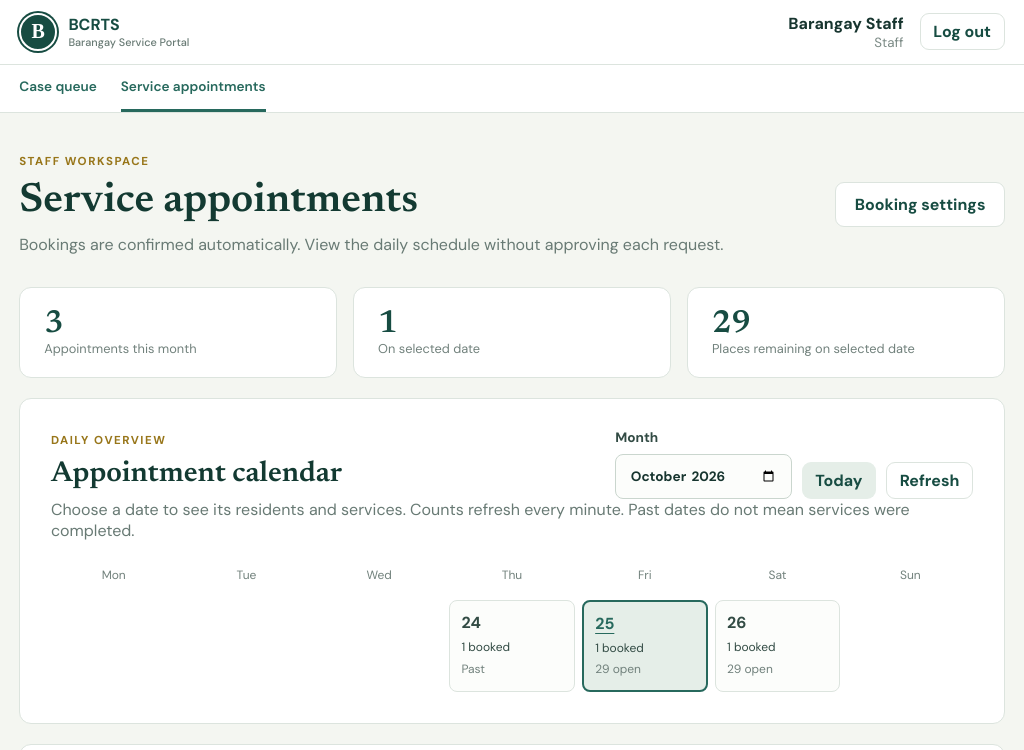
Test case: automatic appointments › saves an every-other-day schedule and capacity settings
The width and height of the screenshot is (1024, 750).
Click the button "Booking settings" at (920, 204), box [835,182,1005,227]
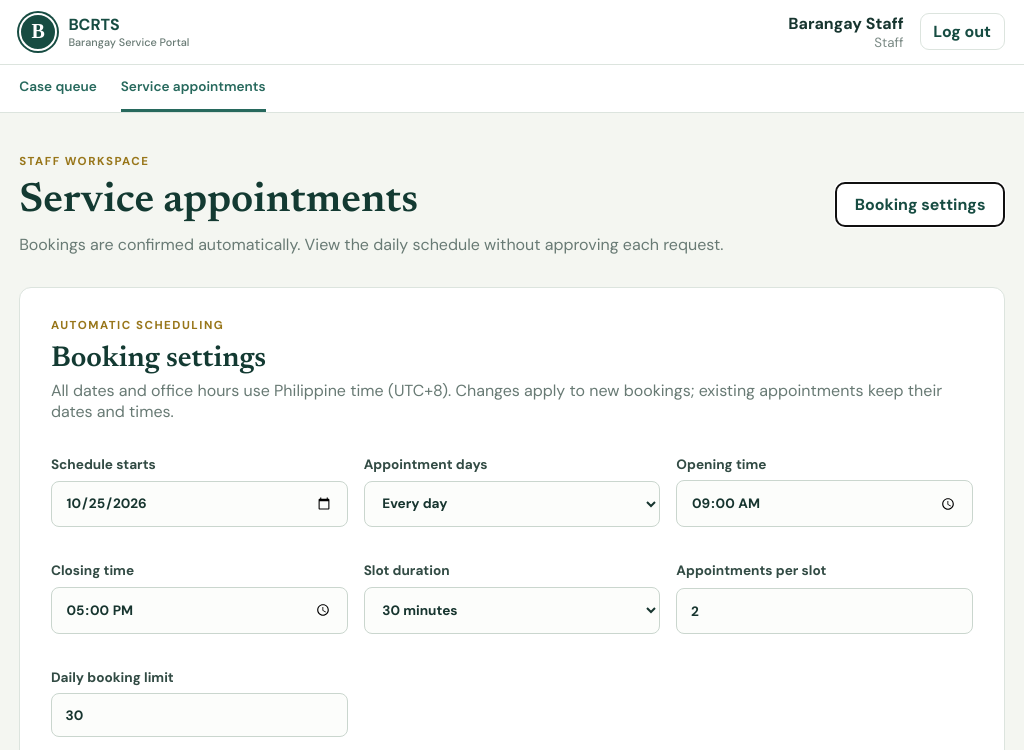
Select "Every other day" in the dropdown labelled "Appointment days" at (512, 504), box [364,481,660,527]
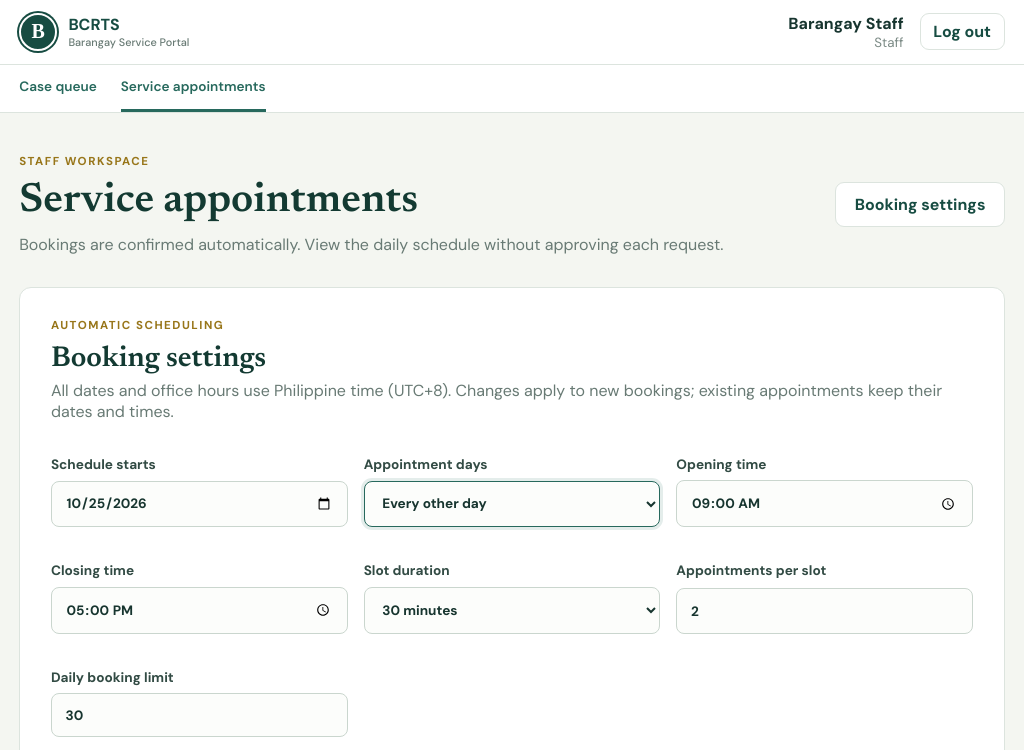
Replace the text in the number field labelled "Daily booking limit" with "15" at (199, 715), box [51,693,348,737]
(page scrolled)
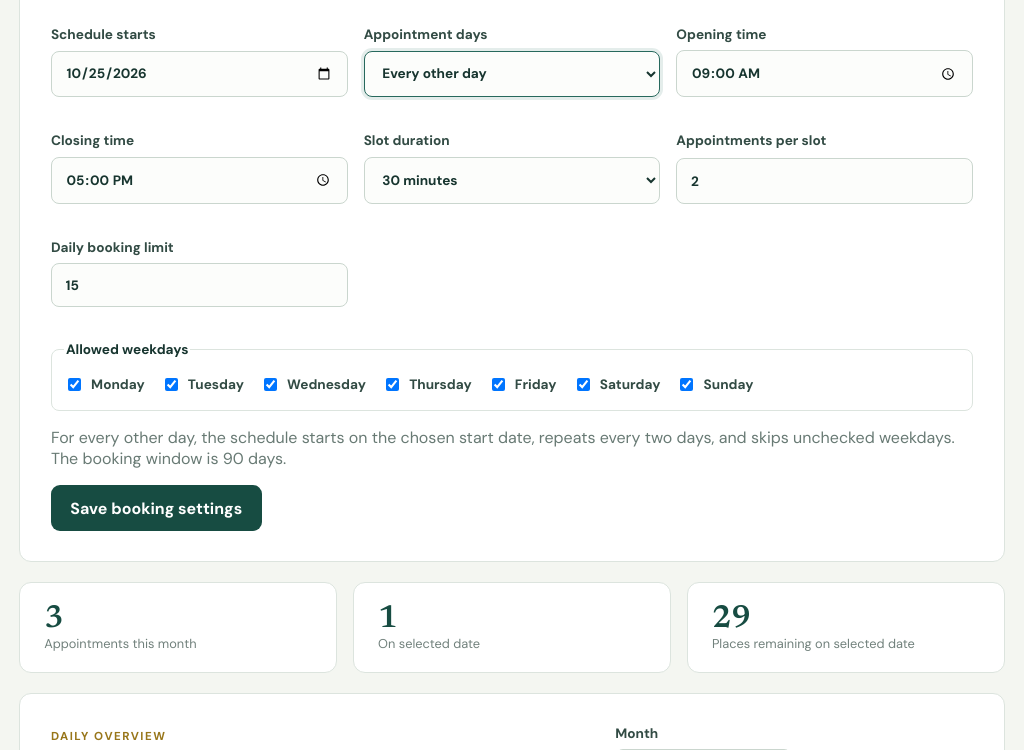
Click the checkbox labelled "Sunday" at (687, 384), box [680,378,693,390]
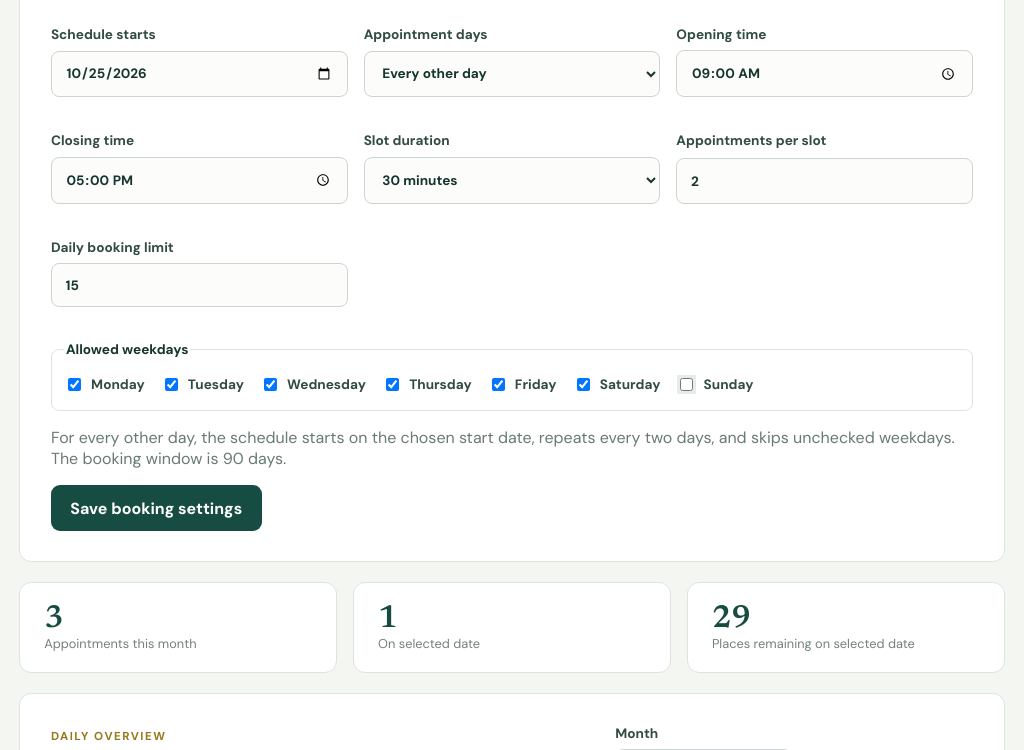
Click the button "Save booking settings" at (156, 508), box [51,485,262,531]
(page scrolled)
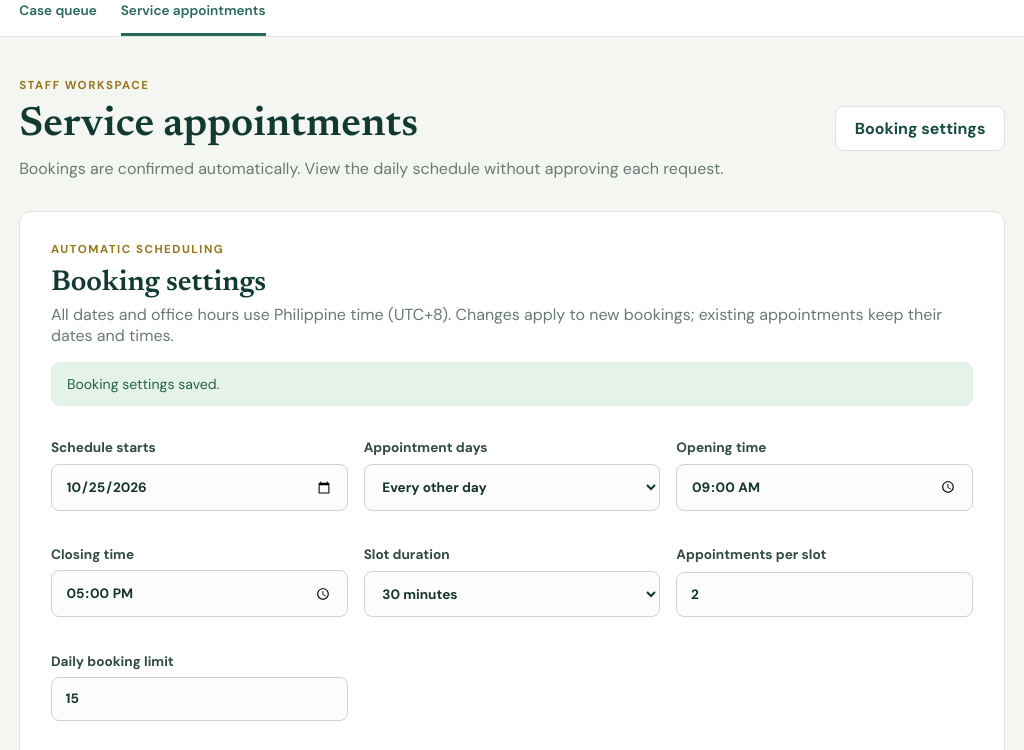
Result: the message reads "Booking settings saved." at [67,375,219,393]
